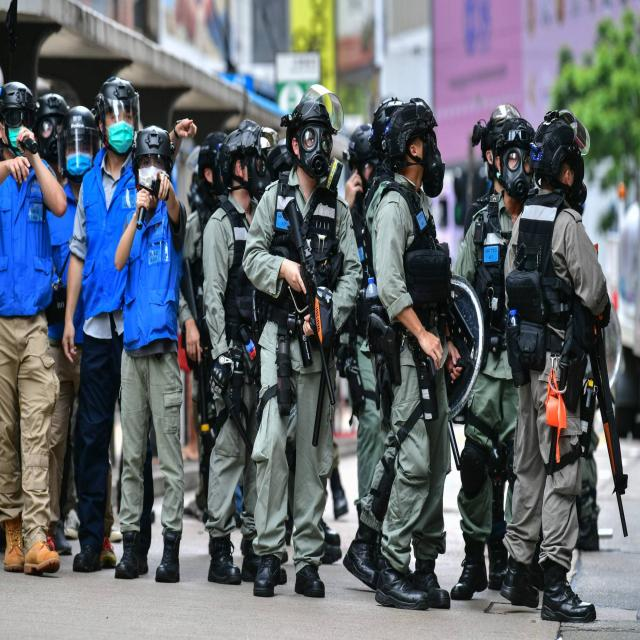police: (475, 78, 635, 619), (235, 84, 363, 574), (348, 88, 462, 636)
